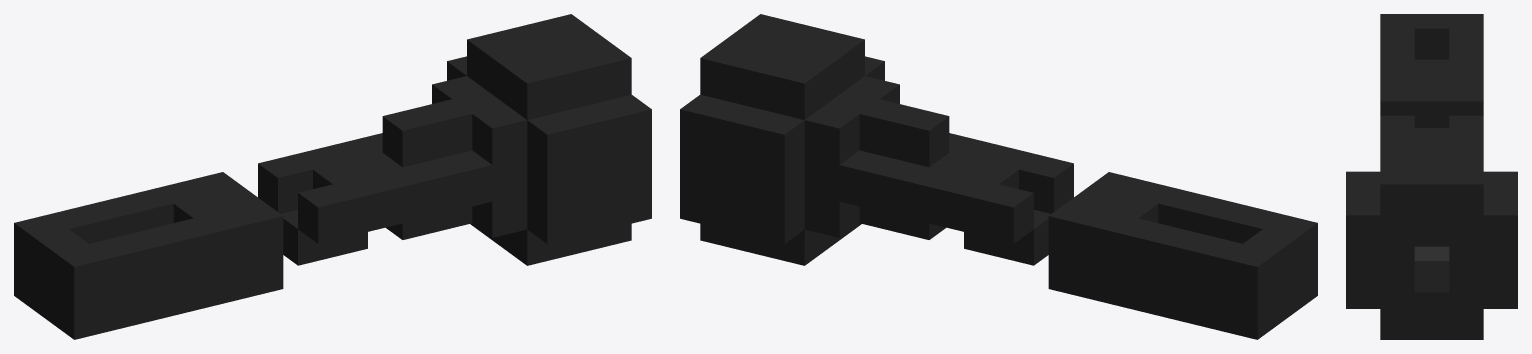
The model's file is Puller.fbx.
The picture shows the model from 3 angles, left to right: view 1: azimuth 30°, elevation 25°; view 2: azimuth 150°, elevation 25°; view 3: azimuth 270°, elevation 25°; orthographic projection. The views are drawn at different scales.
Parts seen in each view (by area): view 1: Puller.001; view 2: Puller.001; view 3: Puller.001.
Boxes of the visible parts, x1,y1,x2,y2 form: Puller.001: (14, 14, 651, 339); Puller.001: (680, 14, 1317, 339); Puller.001: (1346, 14, 1517, 339).
Size of the model in its own units: 0.025 by 0.00735 by 0.00735.
1 material, 1 textured.
